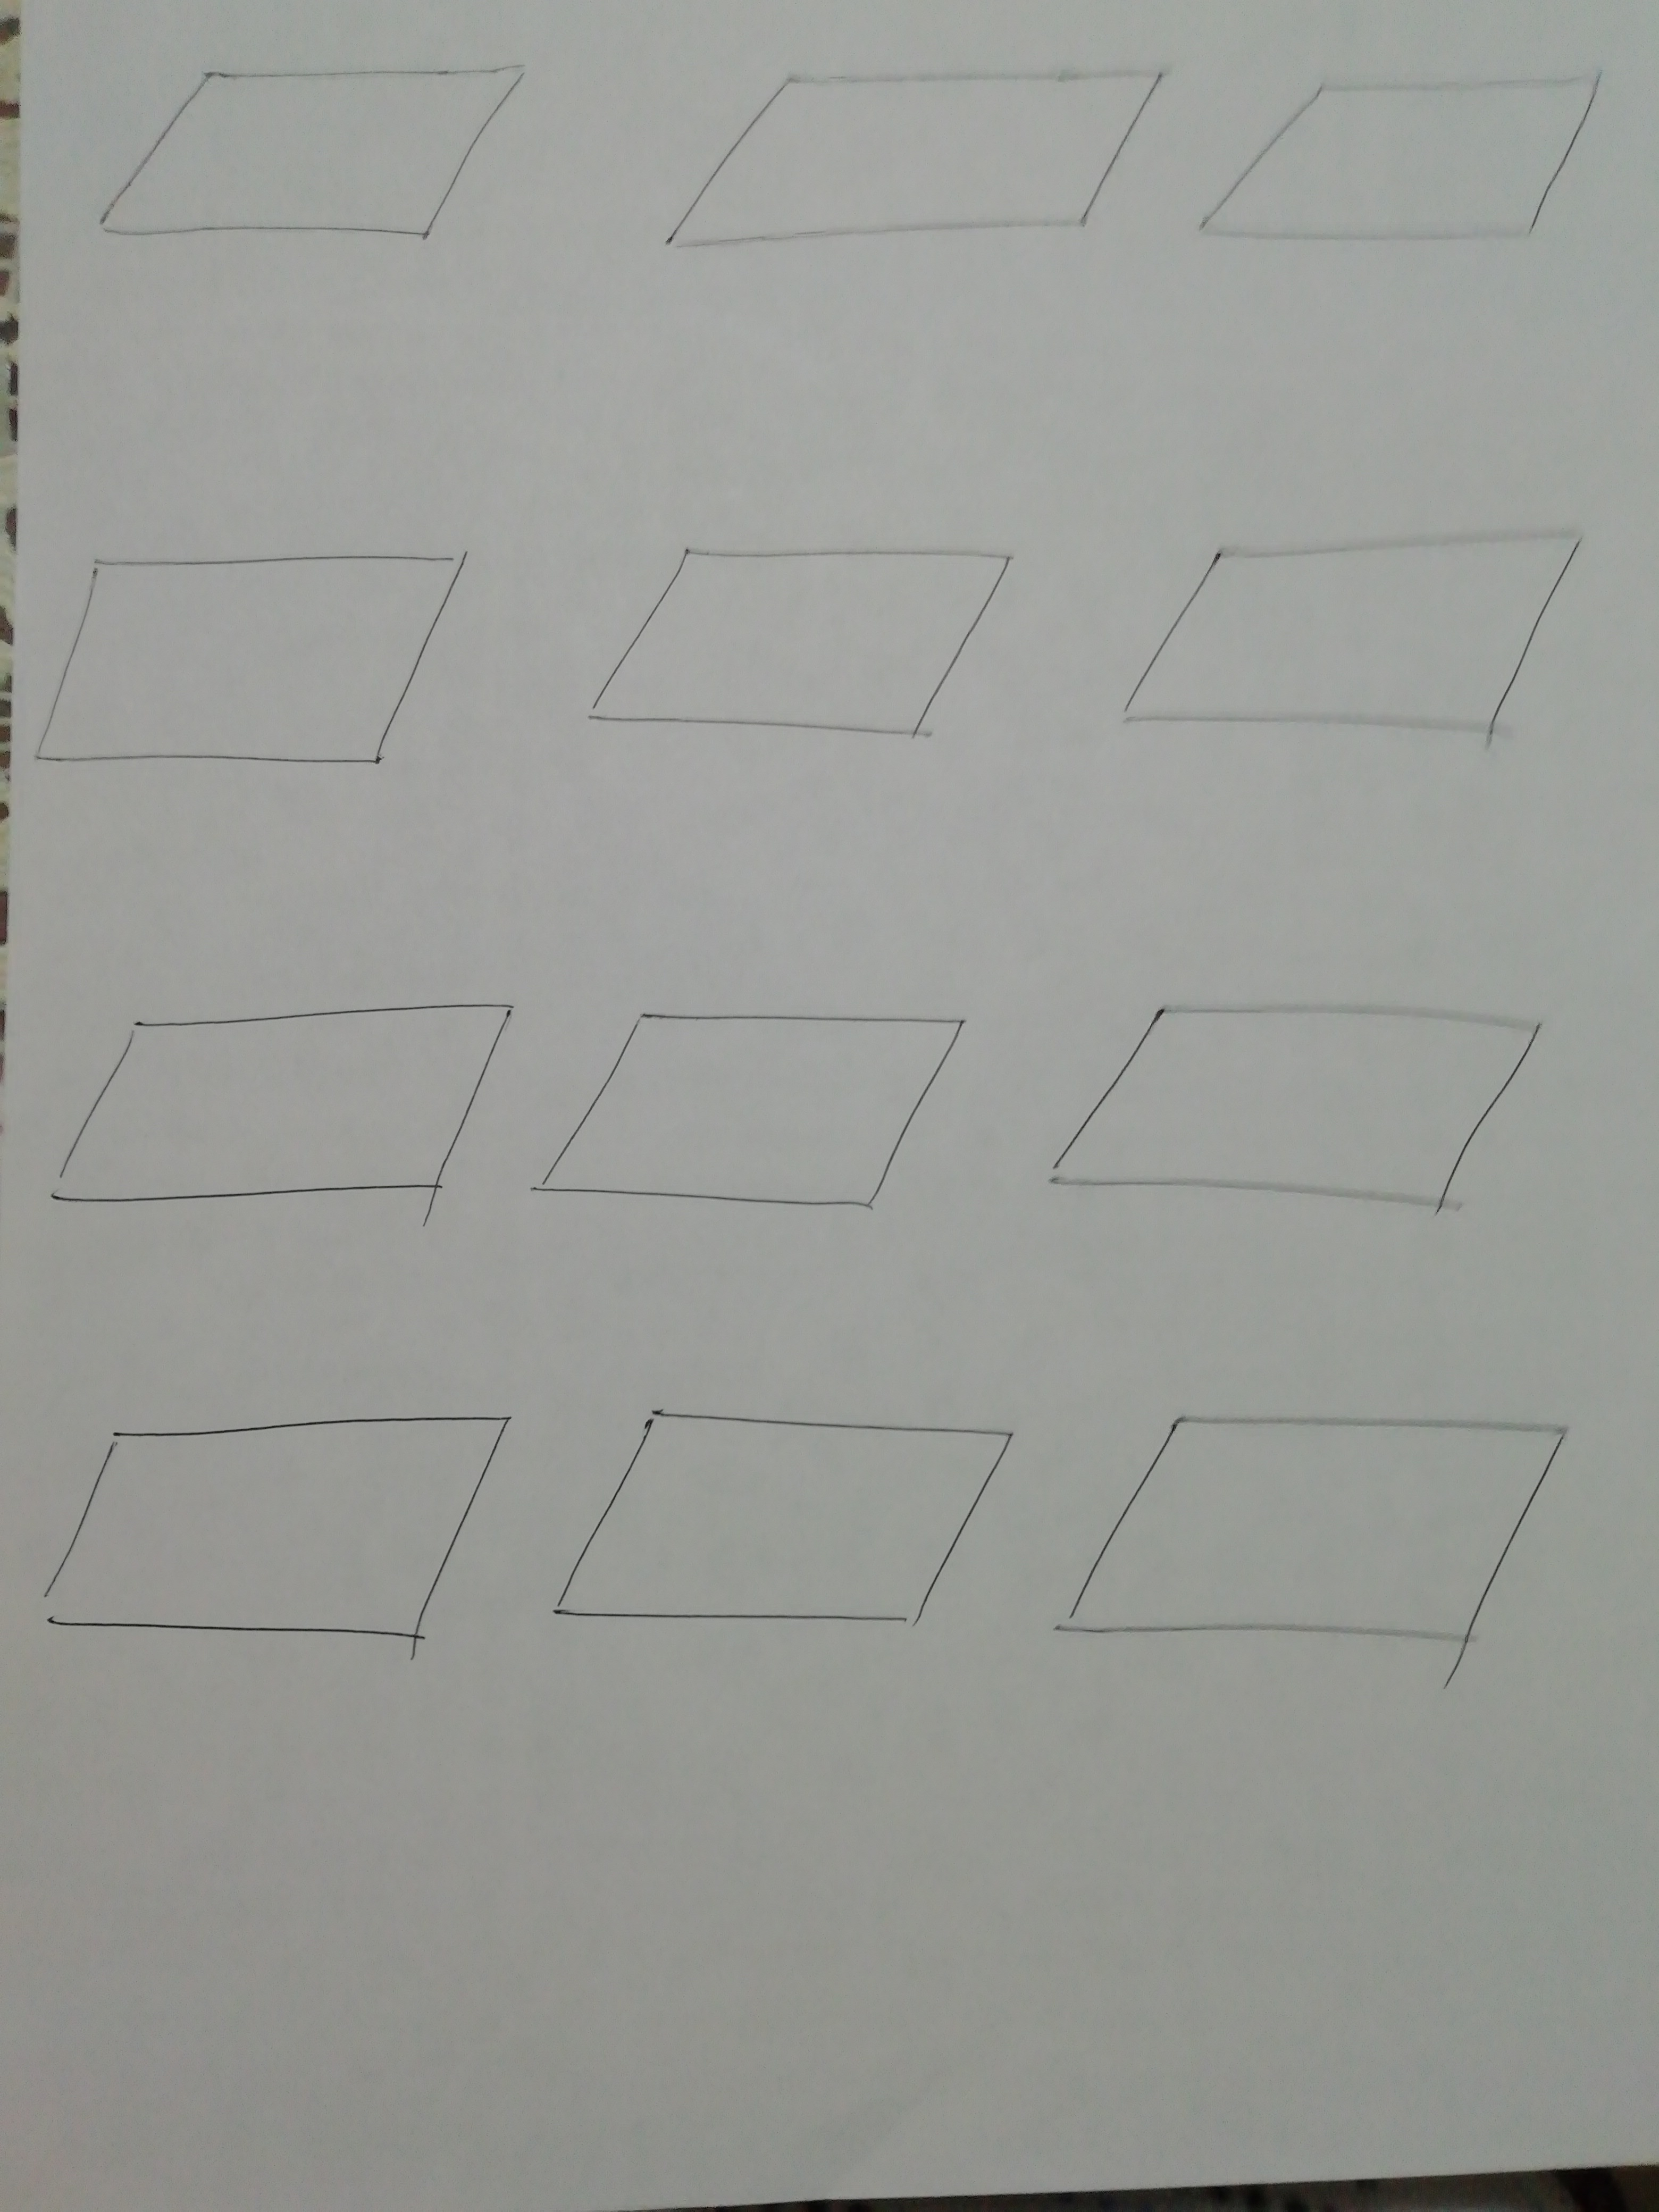scan: (26, 968, 523, 1298), (1033, 1397, 1593, 1684), (1023, 960, 1572, 1247), (1086, 496, 1619, 780), (16, 1386, 540, 1670), (540, 1390, 1037, 1684), (622, 45, 1182, 287), (551, 517, 1051, 784), (66, 28, 547, 305), (526, 979, 990, 1261), (19, 531, 495, 801), (1185, 59, 1624, 280)
